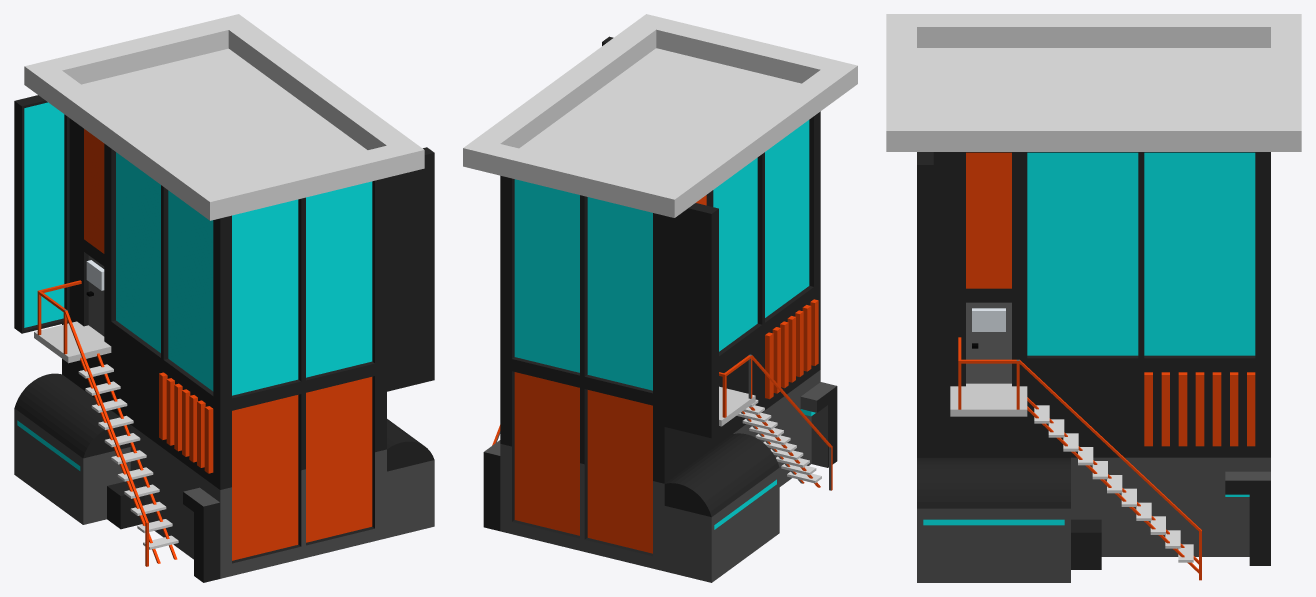
Rendered from Edificio 11.fbx.
The picture shows the model from 3 angles, left to right: view 1: azimuth 30°, elevation 25°; view 2: azimuth 150°, elevation 25°; view 3: azimuth 270°, elevation 25°; orthographic projection. The views are drawn at different scales.
Parts seen in each view (by area): view 1: [3075] (×2), Pared 1 [5346], [5378]; view 2: [3075] (×2), Pared 1 [5343], [5378]; view 3: [3075], [5378].
Part boxes in pixels (<box>): [3075] (×2): <box>14,95,434,582</box>; Pared 1 [5346]: <box>220,178,386,578</box>; [5378]: <box>24,14,424,220</box>; [3075] (×2): <box>483,36,837,582</box>; Pared 1 [5343]: <box>500,175,664,571</box>; [5378]: <box>463,14,857,217</box>; [3075]: <box>917,152,1270,582</box>; [5378]: <box>886,14,1301,151</box>.
Size of the model in its own units: 433 by 531 by 620.
